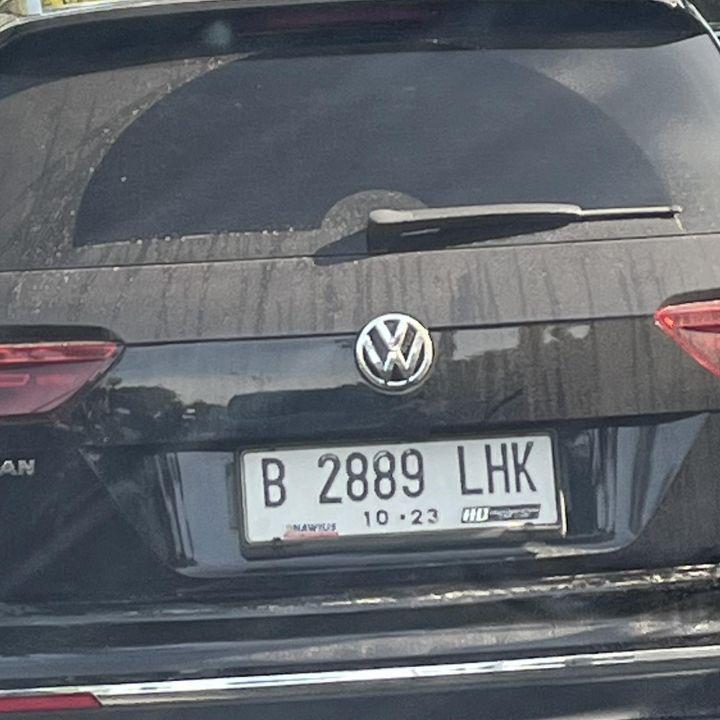plat: (243, 435, 561, 544)
